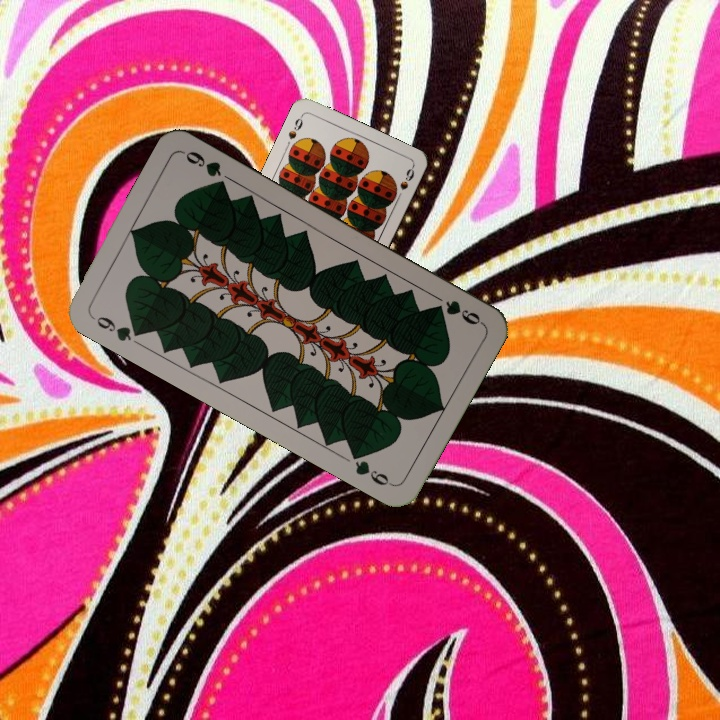G9: (87, 312, 146, 344), (441, 296, 485, 328)
S9: (284, 111, 306, 142)
